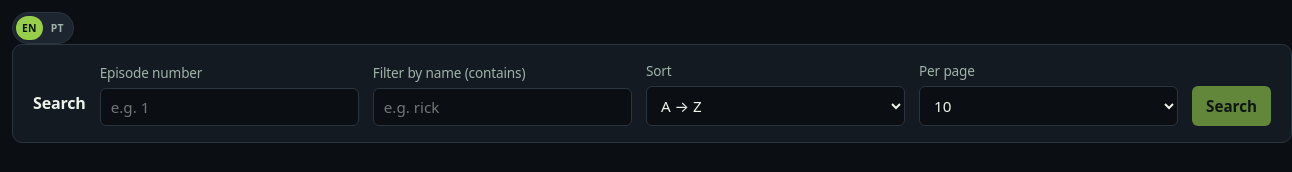
Test: LocaleToggle › actually changes translated text elsewhere in the tree
Expected: the heading "Search" is shown, [33, 92, 86, 114]
Click the button with aria-label "switch to portuguese" at (43, 28), box [12, 12, 74, 44]
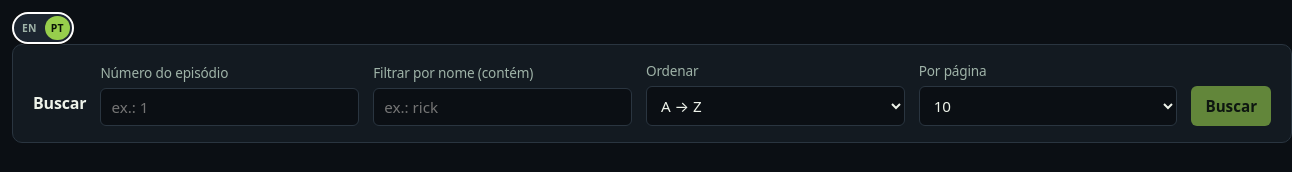
Result: the heading "Buscar" is shown at [33, 92, 86, 114]
Result: the heading "Search" is gone
